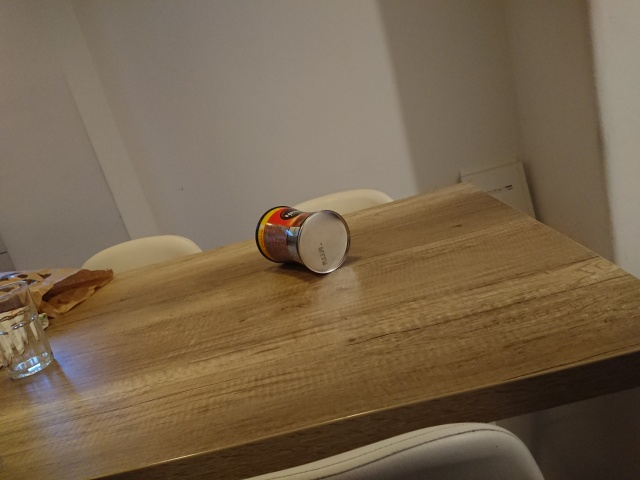Nescafe Classic 225g: (252, 202, 354, 279)
